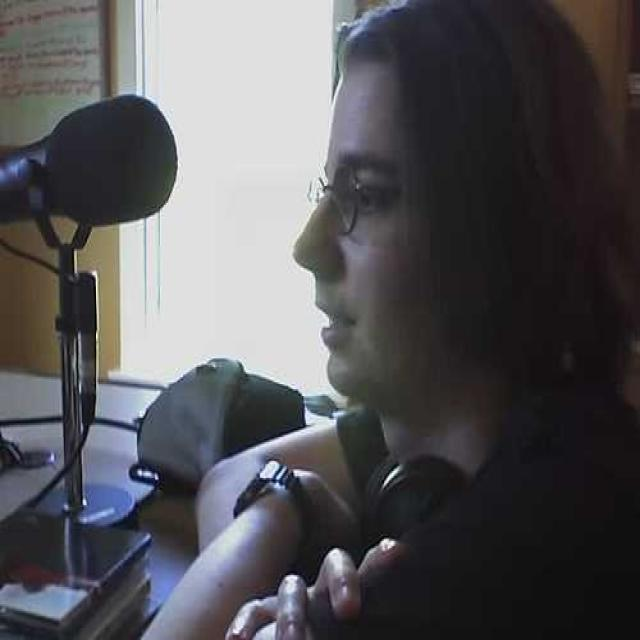microphone: (1, 96, 178, 235)
